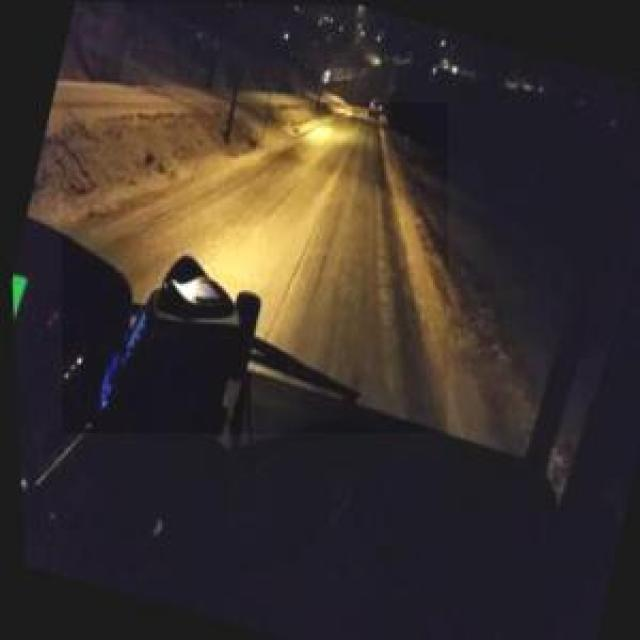ice-road: (63, 103, 447, 433)
